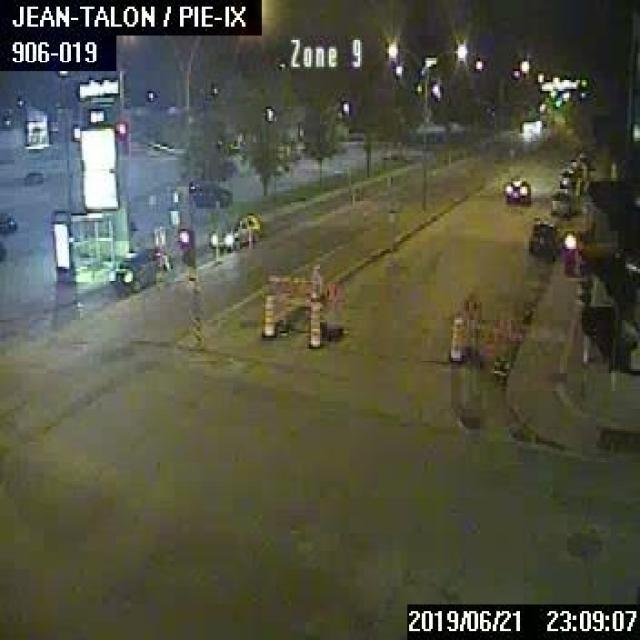construction: (263, 264, 344, 340), (463, 294, 531, 367), (447, 313, 464, 361), (307, 299, 321, 346), (260, 293, 274, 336)
vehicle: (110, 247, 168, 291), (207, 212, 260, 250), (528, 217, 558, 255), (189, 179, 231, 206), (545, 186, 573, 217), (502, 174, 529, 202), (557, 167, 575, 185), (0, 210, 15, 230), (23, 169, 42, 181), (566, 156, 581, 169)
